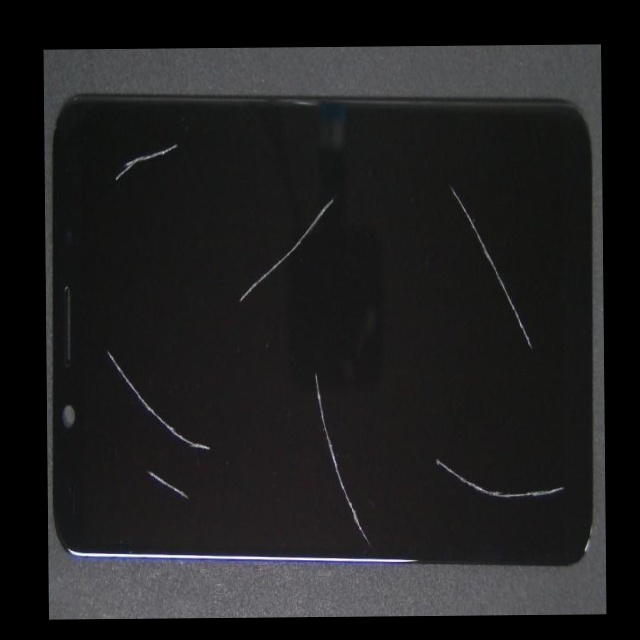scratch: (303, 288, 606, 617), (150, 78, 215, 191)
